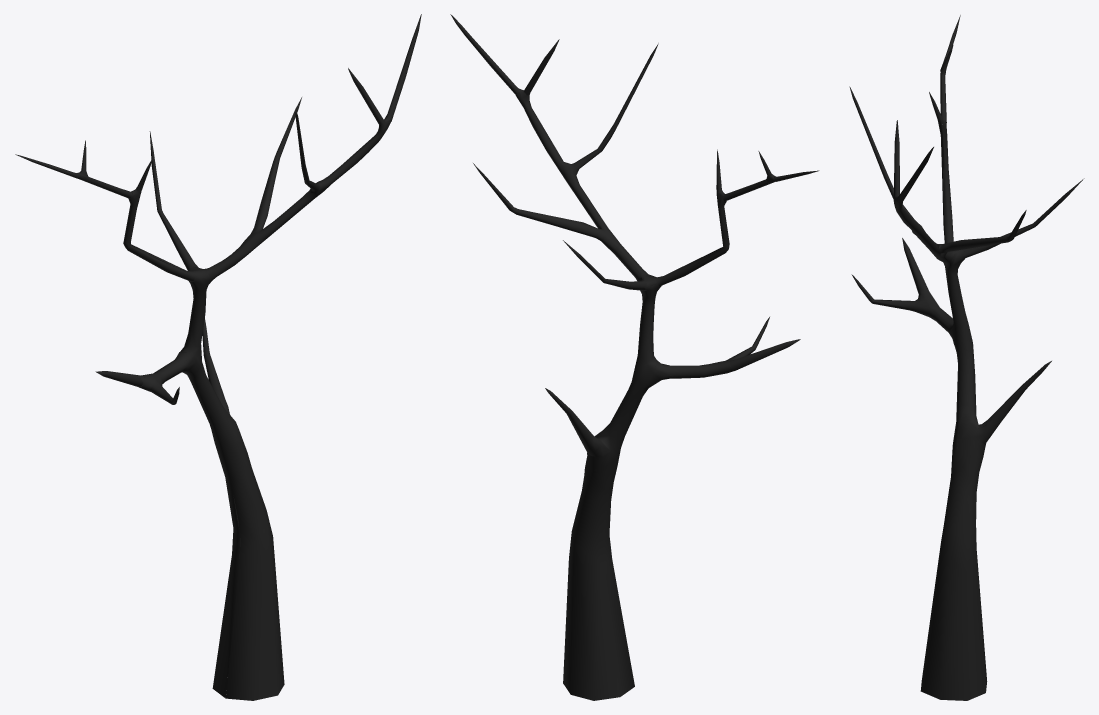
File: OLD Tree.fbx
The picture shows the model from 3 angles, left to right: view 1: azimuth 30°, elevation 25°; view 2: azimuth 150°, elevation 25°; view 3: azimuth 270°, elevation 25°; orthographic projection. The views are drawn at different scales.
Parts seen in each view (by area): view 1: OLD tree; view 2: OLD tree; view 3: OLD tree.
Part boxes in pixels (box(x1,y1,x2,y2)): OLD tree: box(15, 14, 421, 700); OLD tree: box(450, 14, 819, 700); OLD tree: box(849, 15, 1084, 700).
Size of the model in its own units: 390 by 608 by 210.
